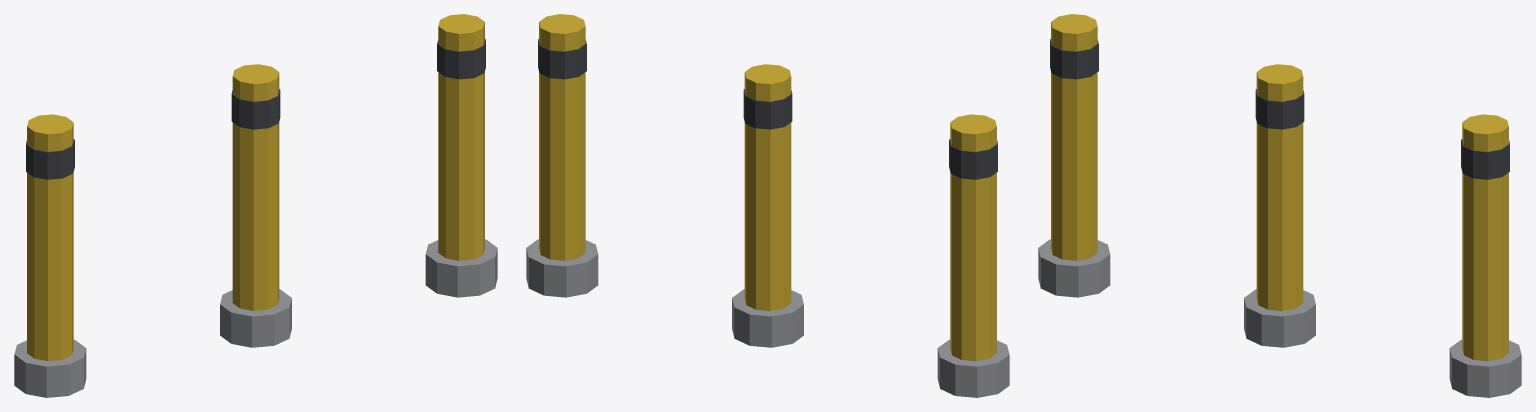
The model's file is bollards.glb.
The picture shows the model from 3 angles, left to right: view 1: azimuth 30°, elevation 25°; view 2: azimuth 150°, elevation 25°; view 3: azimuth 330°, elevation 25°; orthographic projection.
Visible parts, largest first — view 1: bollards; view 2: bollards; view 3: bollards.
Boxes of the visible parts, bbox=[...] form: bollards: bbox=[14, 14, 497, 397]; bollards: bbox=[526, 14, 1009, 397]; bollards: bbox=[1038, 14, 1521, 397].
Bounding box in the file's own units: 1.26 × 0.66 × 0.17.
